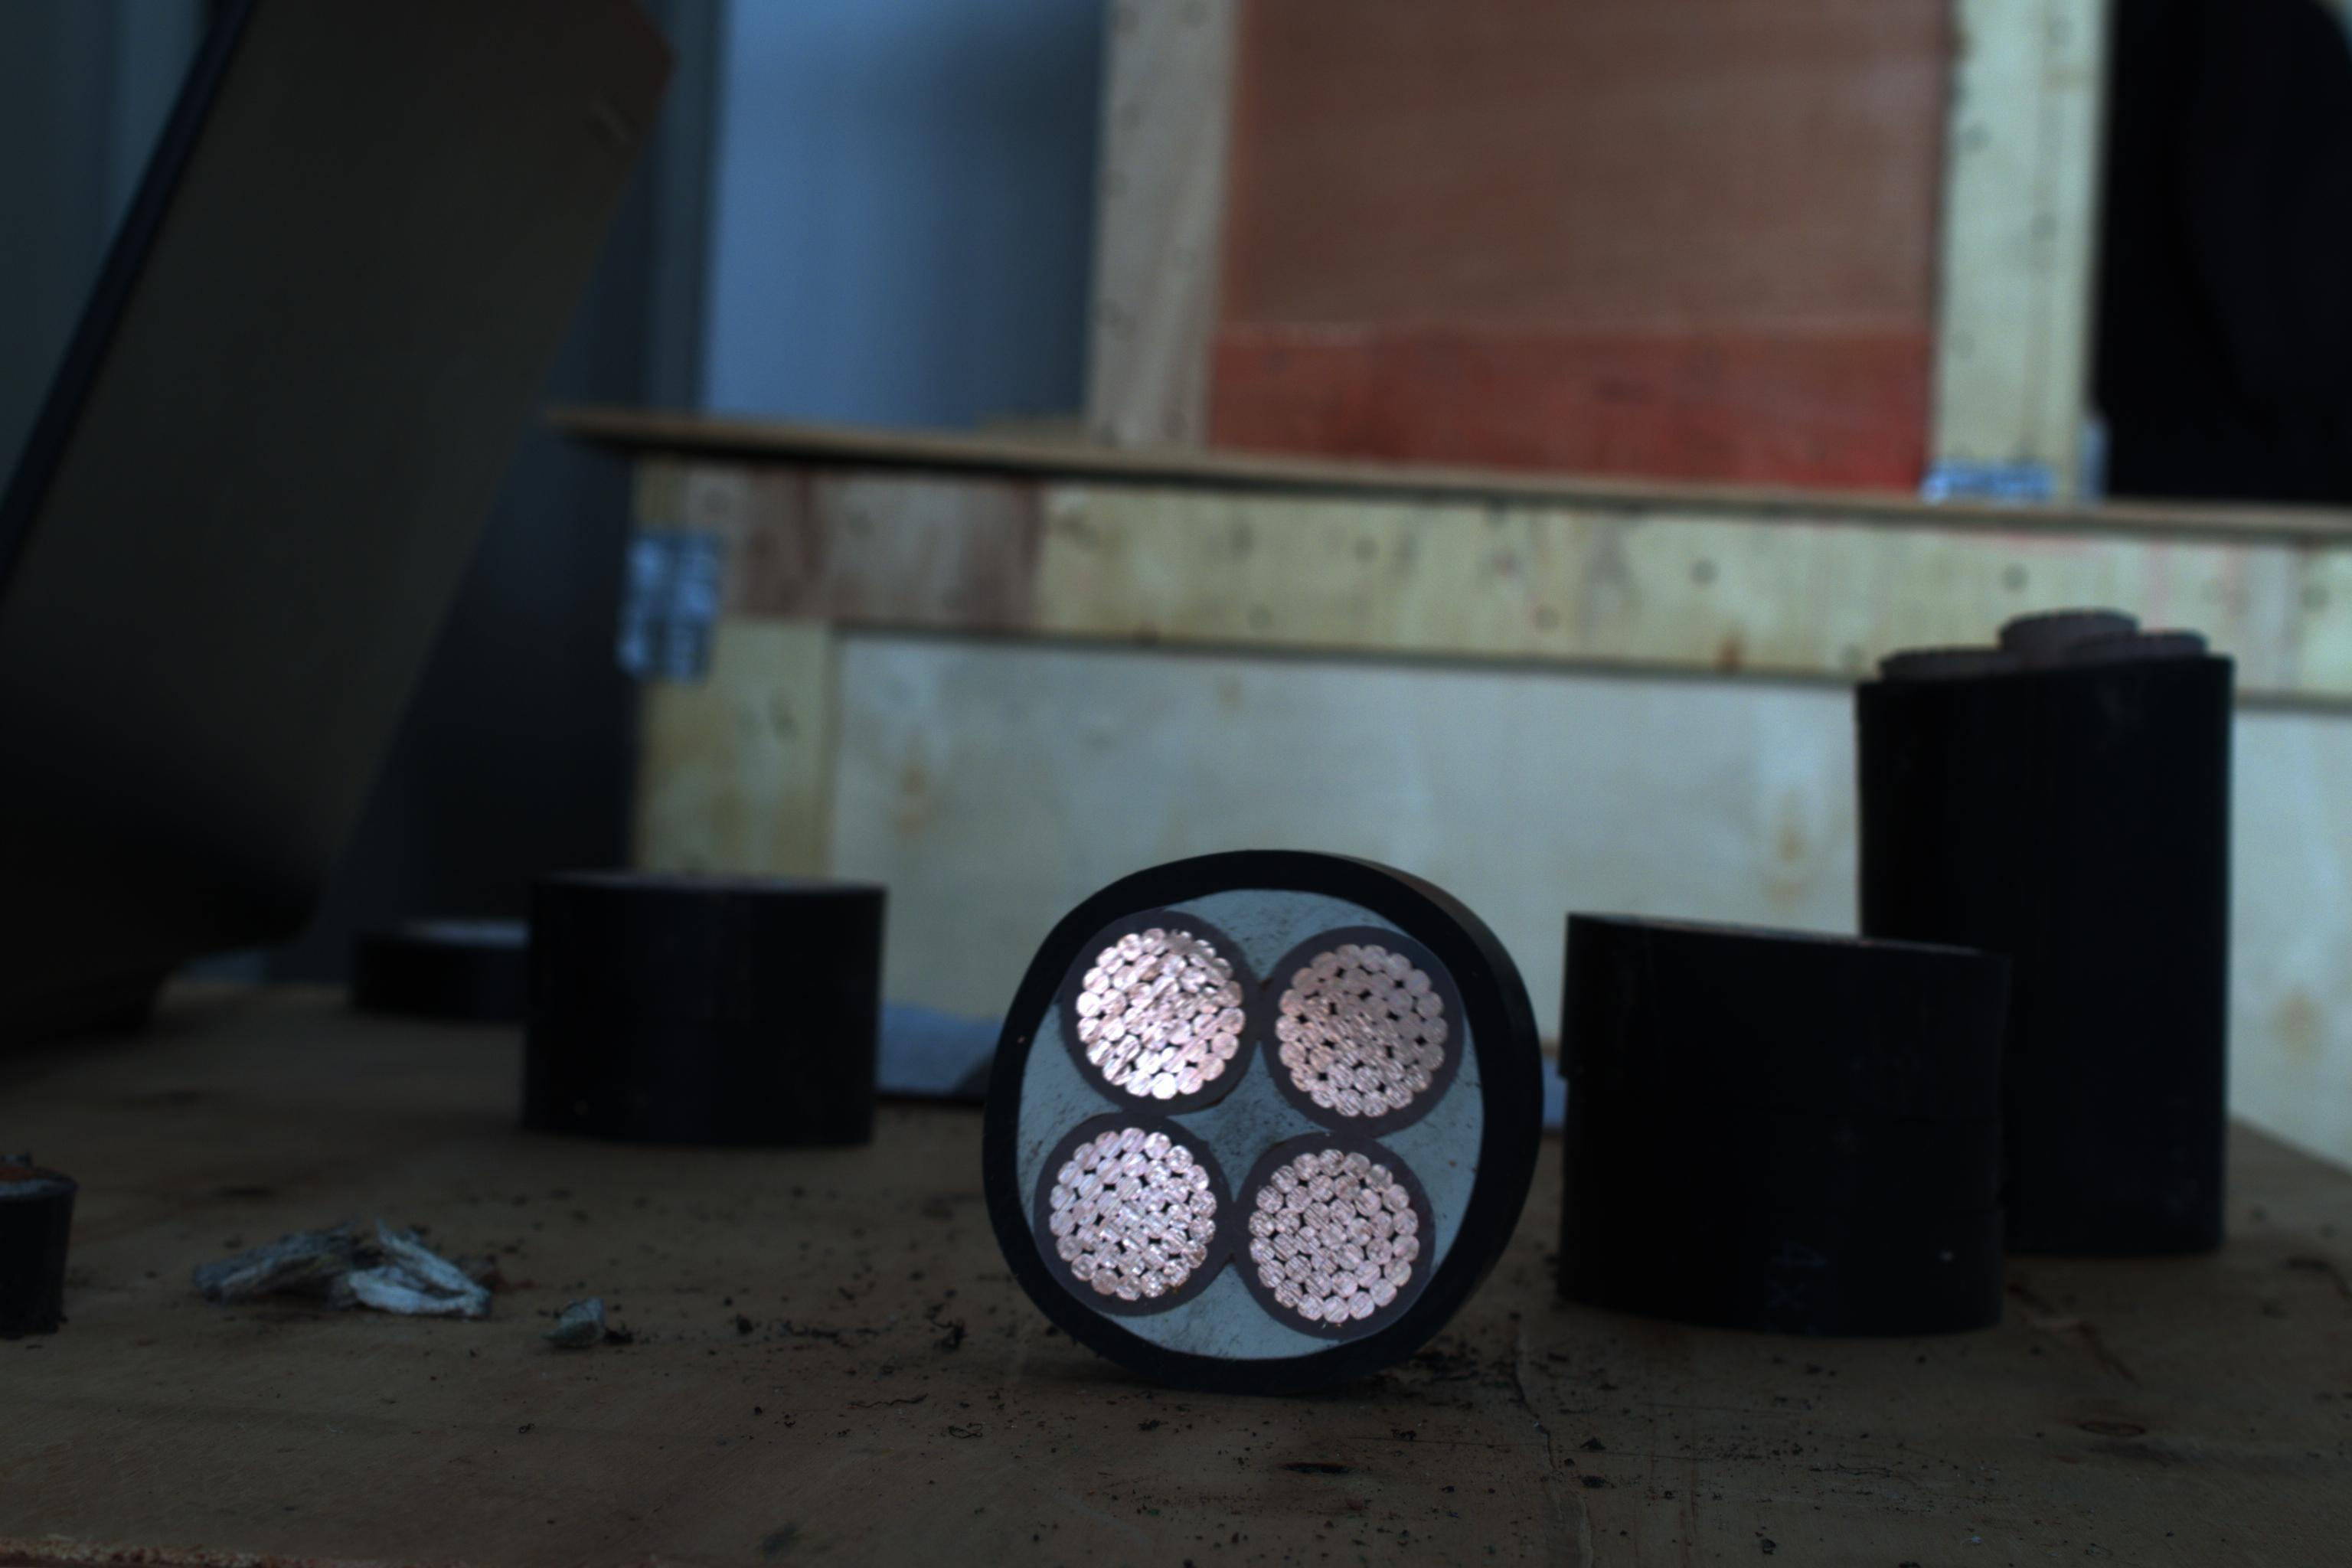YJV_0.6_1kV_4x240: (987, 866, 1508, 1389)
